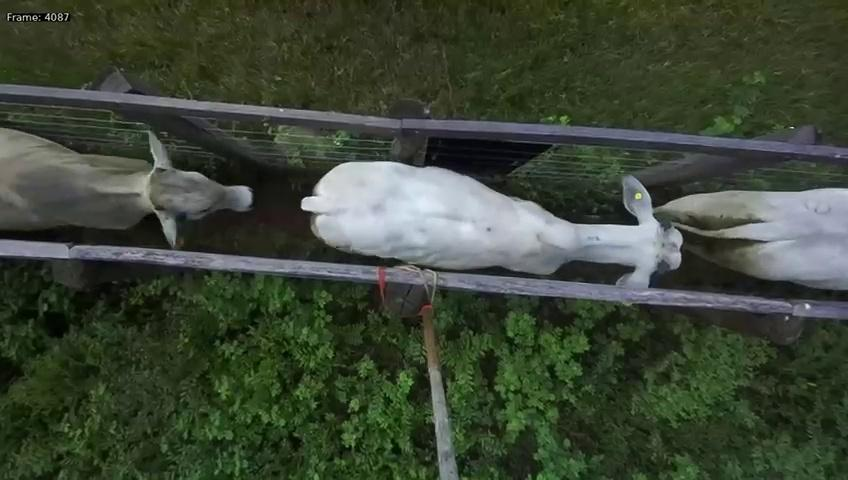cattle: (297, 146, 693, 296), (0, 114, 259, 254)
